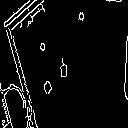cube: (39, 75, 56, 102), (72, 7, 91, 28), (34, 39, 53, 57), (58, 60, 71, 80)
